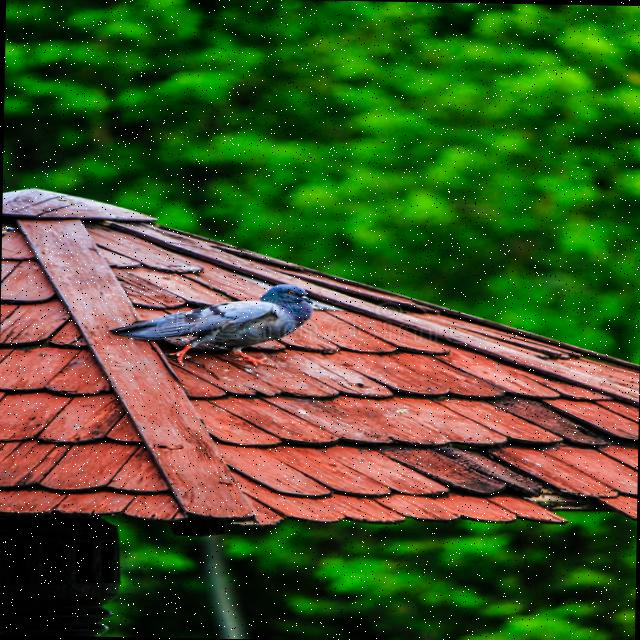bird: (107, 280, 326, 374)
